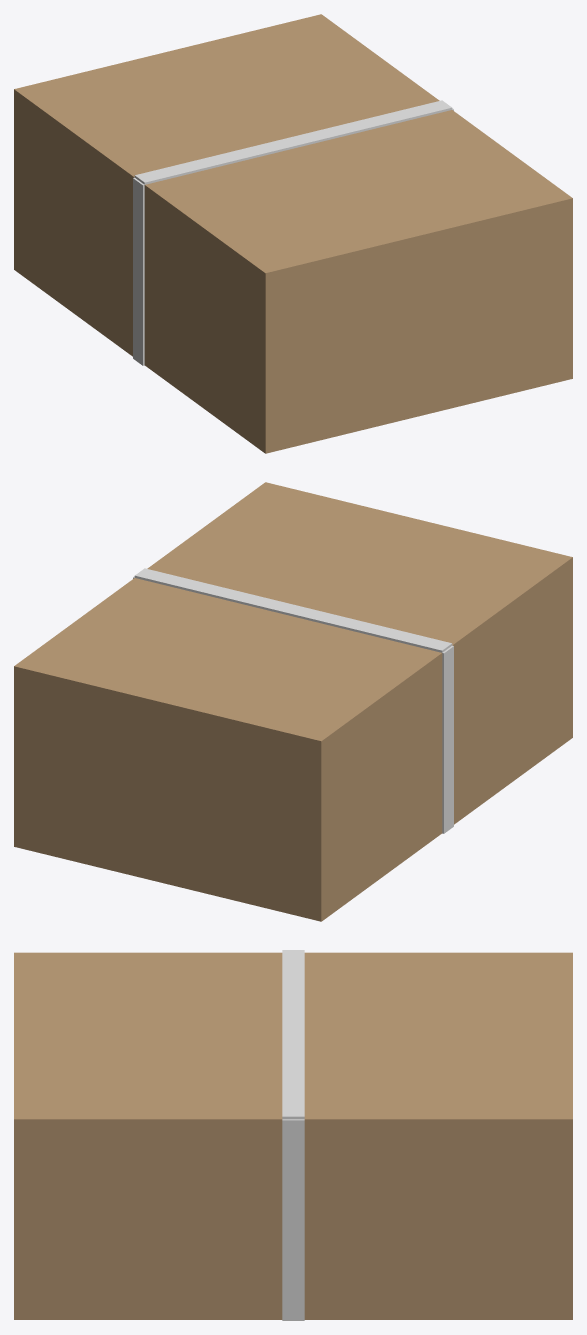
3 renders of one model, top to bottom at view 1: azimuth 30°, elevation 25°; view 2: azimuth 150°, elevation 25°; view 3: azimuth 270°, elevation 25°, orthographic. The views are drawn at different scales.
Parts seen in each view (by area): view 1: box, Cube.003; view 2: box, Cube.003; view 3: box, Cube.003.
Boxes of the visible parts, left/top/right/bottom form: box: left=14, top=14, right=572, bottom=453; Cube.003: left=133, top=100, right=453, bottom=365; box: left=14, top=482, right=572, bottom=921; Cube.003: left=133, top=568, right=453, bottom=833; box: left=14, top=952, right=572, bottom=1319; Cube.003: left=282, top=950, right=304, bottom=1320.
Size of the model in its own units: 1.43 by 0.8019 by 2.
